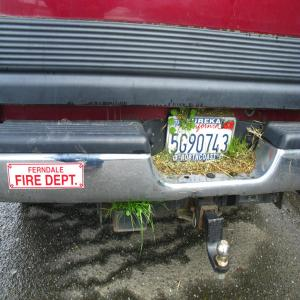Vehicle-registration-plate: (169, 116, 244, 170)
